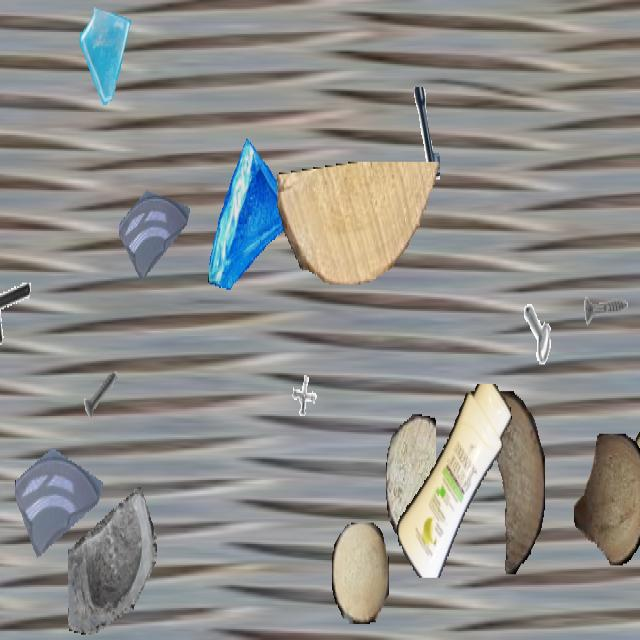glass: (206, 137, 300, 304), (68, 482, 156, 638), (15, 416, 103, 572), (119, 162, 191, 290), (78, 2, 136, 105)
metal: (382, 87, 440, 190), (523, 270, 577, 366), (582, 270, 628, 352), (80, 357, 122, 432), (286, 361, 326, 432), (0, 261, 30, 347)
plastic: (394, 384, 516, 576), (629, 414, 640, 585)
wood: (277, 162, 443, 282), (473, 391, 545, 573), (574, 434, 640, 565), (386, 414, 436, 542), (332, 523, 388, 622)
